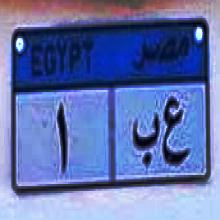1: (55, 98, 73, 174)
ain: (161, 92, 190, 176)
baa: (132, 109, 160, 173)
